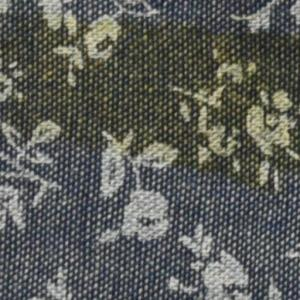Stain: (1, 1, 300, 204)
